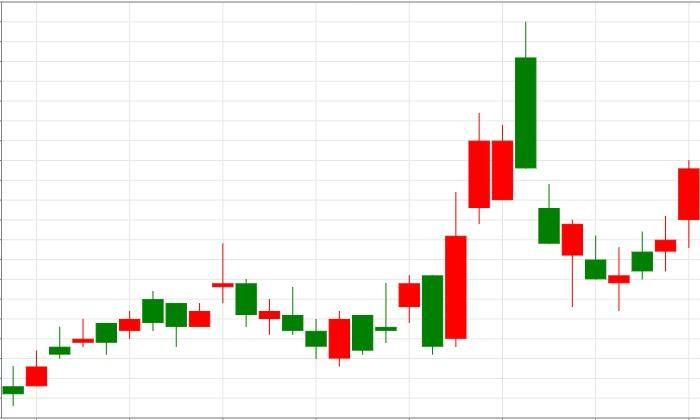bearish_engulfing_fall: (327, 275, 444, 366)
bullish_engulfing_rise: (212, 243, 351, 367)
